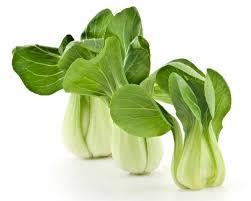Healthy-Pechay: (11, 15, 247, 174)
